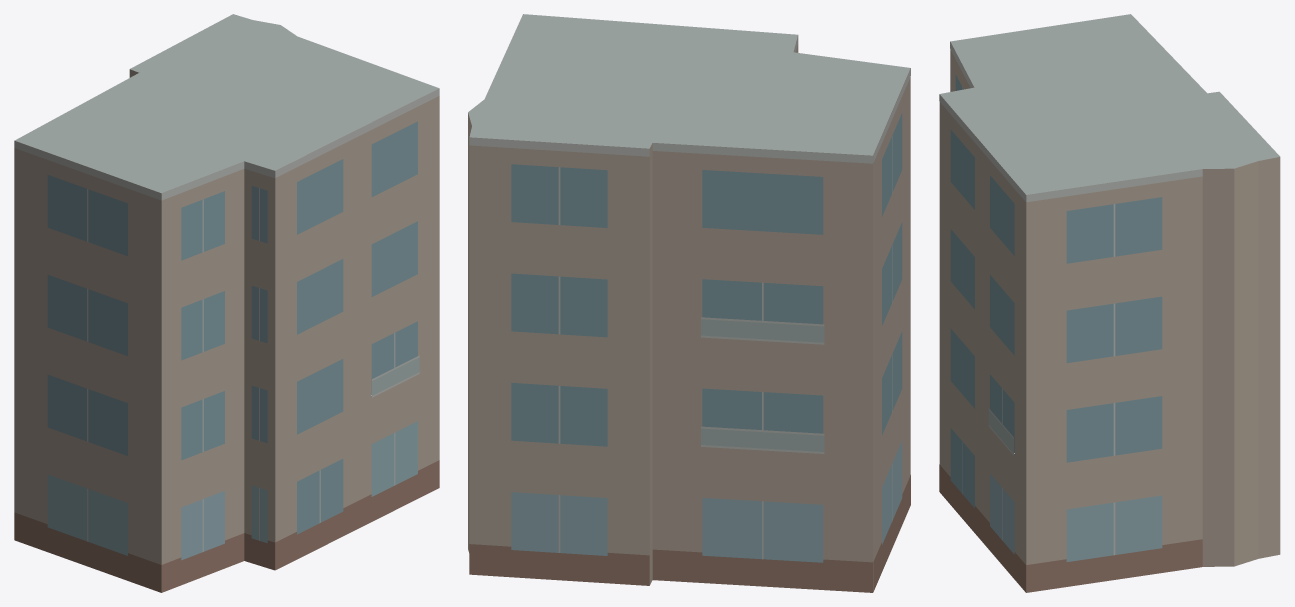
Rendered from survey-upis-32464680.glb.
3 renders of one model, left to right at view 1: azimuth 30°, elevation 25°; view 2: azimuth 150°, elevation 25°; view 3: azimuth 270°, elevation 25°, orthographic. The views are drawn at different scales.
Visible parts, largest first — view 1: survey-upis-32464680.tmp; view 2: survey-upis-32464680.tmp; view 3: survey-upis-32464680.tmp.
Part boxes in pixels (x1=…): survey-upis-32464680.tmp: x1=14, y1=14, x2=439, y2=592; survey-upis-32464680.tmp: x1=468, y1=14, x2=910, y2=592; survey-upis-32464680.tmp: x1=939, y1=14, x2=1280, y2=592.
Size of the model in its own units: 12.94 by 13.25 by 10.3.
